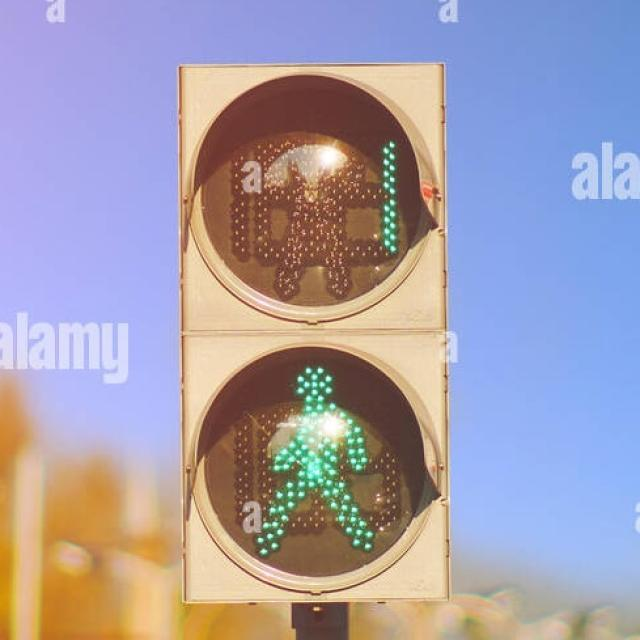green_light: (254, 361, 394, 554)
